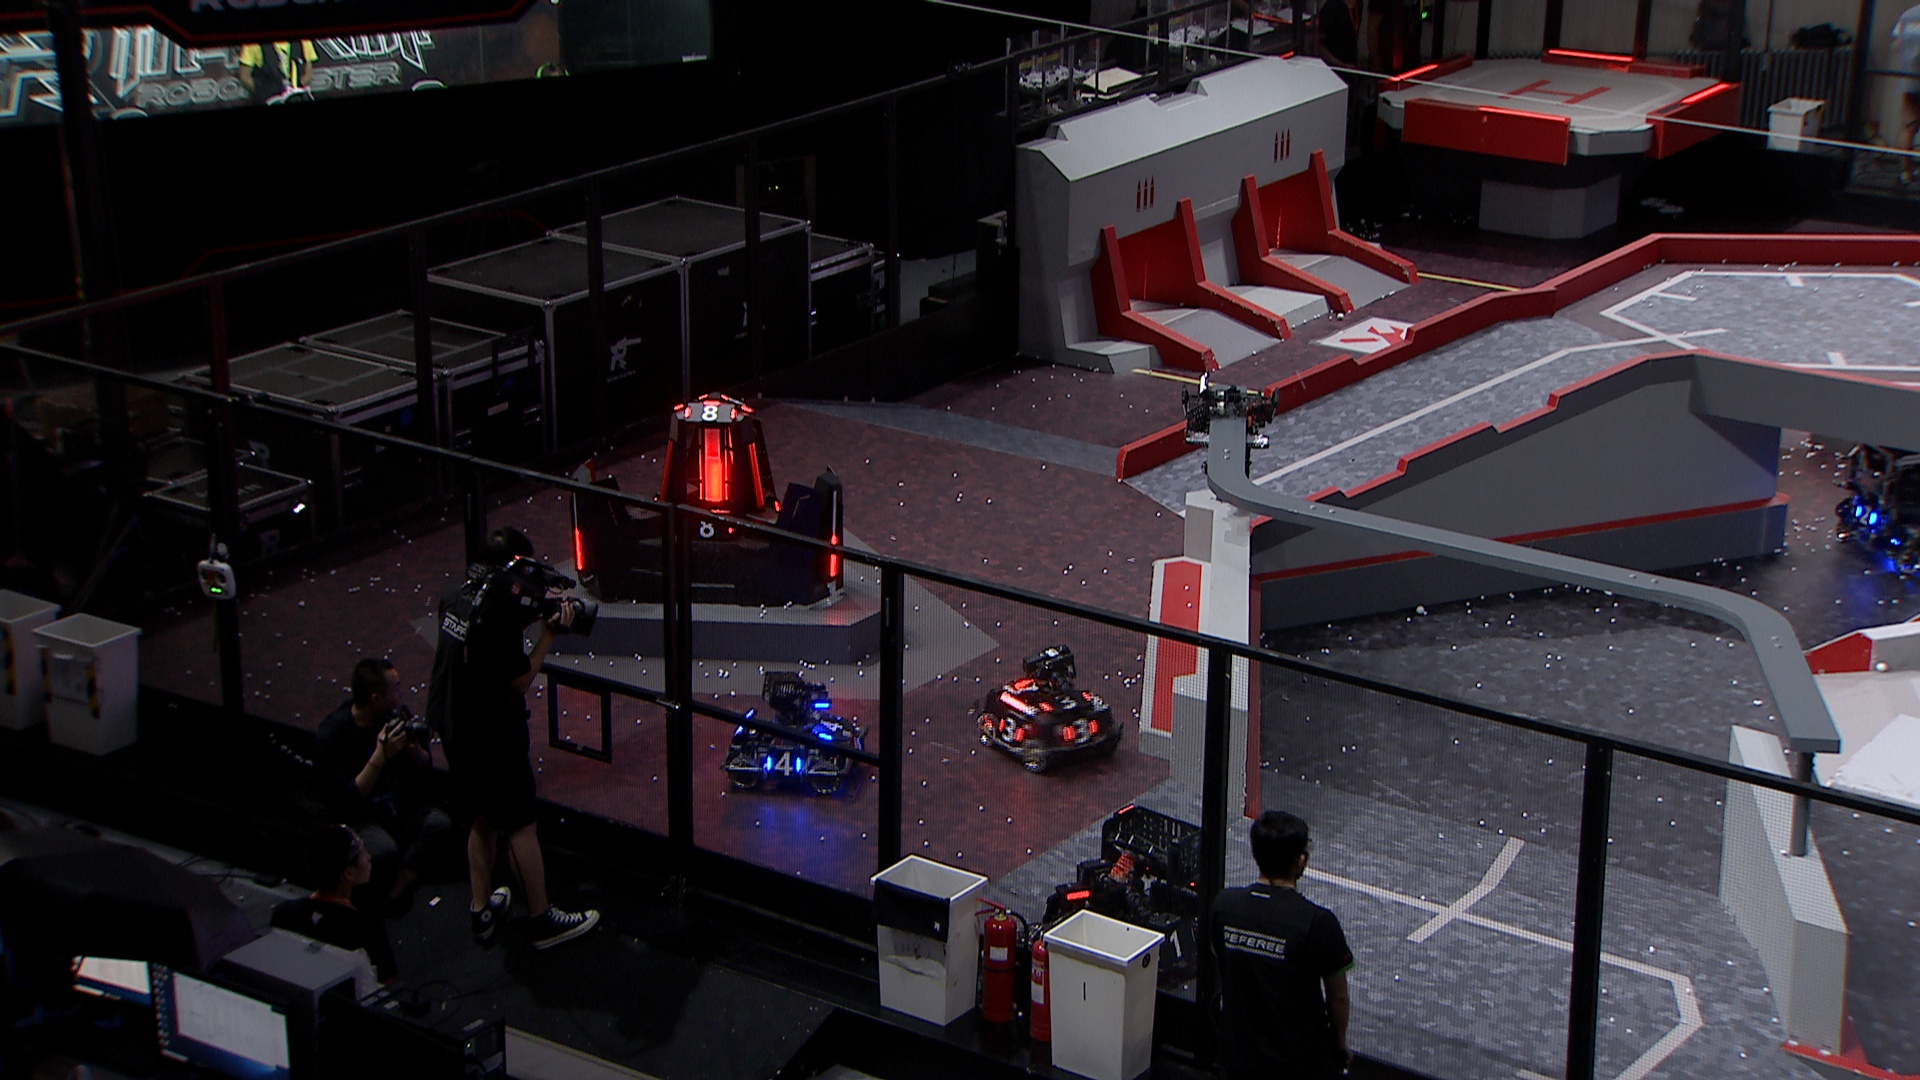armor: (1155, 924, 1195, 960), (700, 452, 728, 501), (746, 440, 766, 508), (655, 436, 673, 504), (684, 401, 736, 422), (996, 713, 1025, 742), (1067, 717, 1098, 744), (1044, 690, 1087, 709), (764, 752, 800, 774), (688, 517, 732, 535), (827, 531, 843, 579), (816, 712, 841, 741), (1851, 501, 1878, 527), (571, 524, 585, 571)
base: (564, 390, 851, 607)
car: (1034, 802, 1230, 982), (973, 645, 1124, 774), (719, 666, 864, 799), (1832, 422, 1920, 579)
watcher: (1176, 371, 1284, 484)
